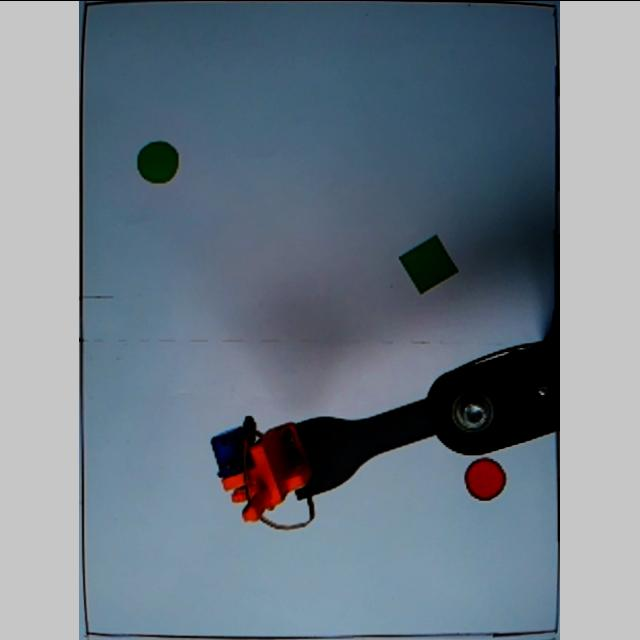greenCircle: (134, 140, 182, 184)
greenSquare: (401, 236, 461, 294)
redCircle: (464, 458, 506, 500)
